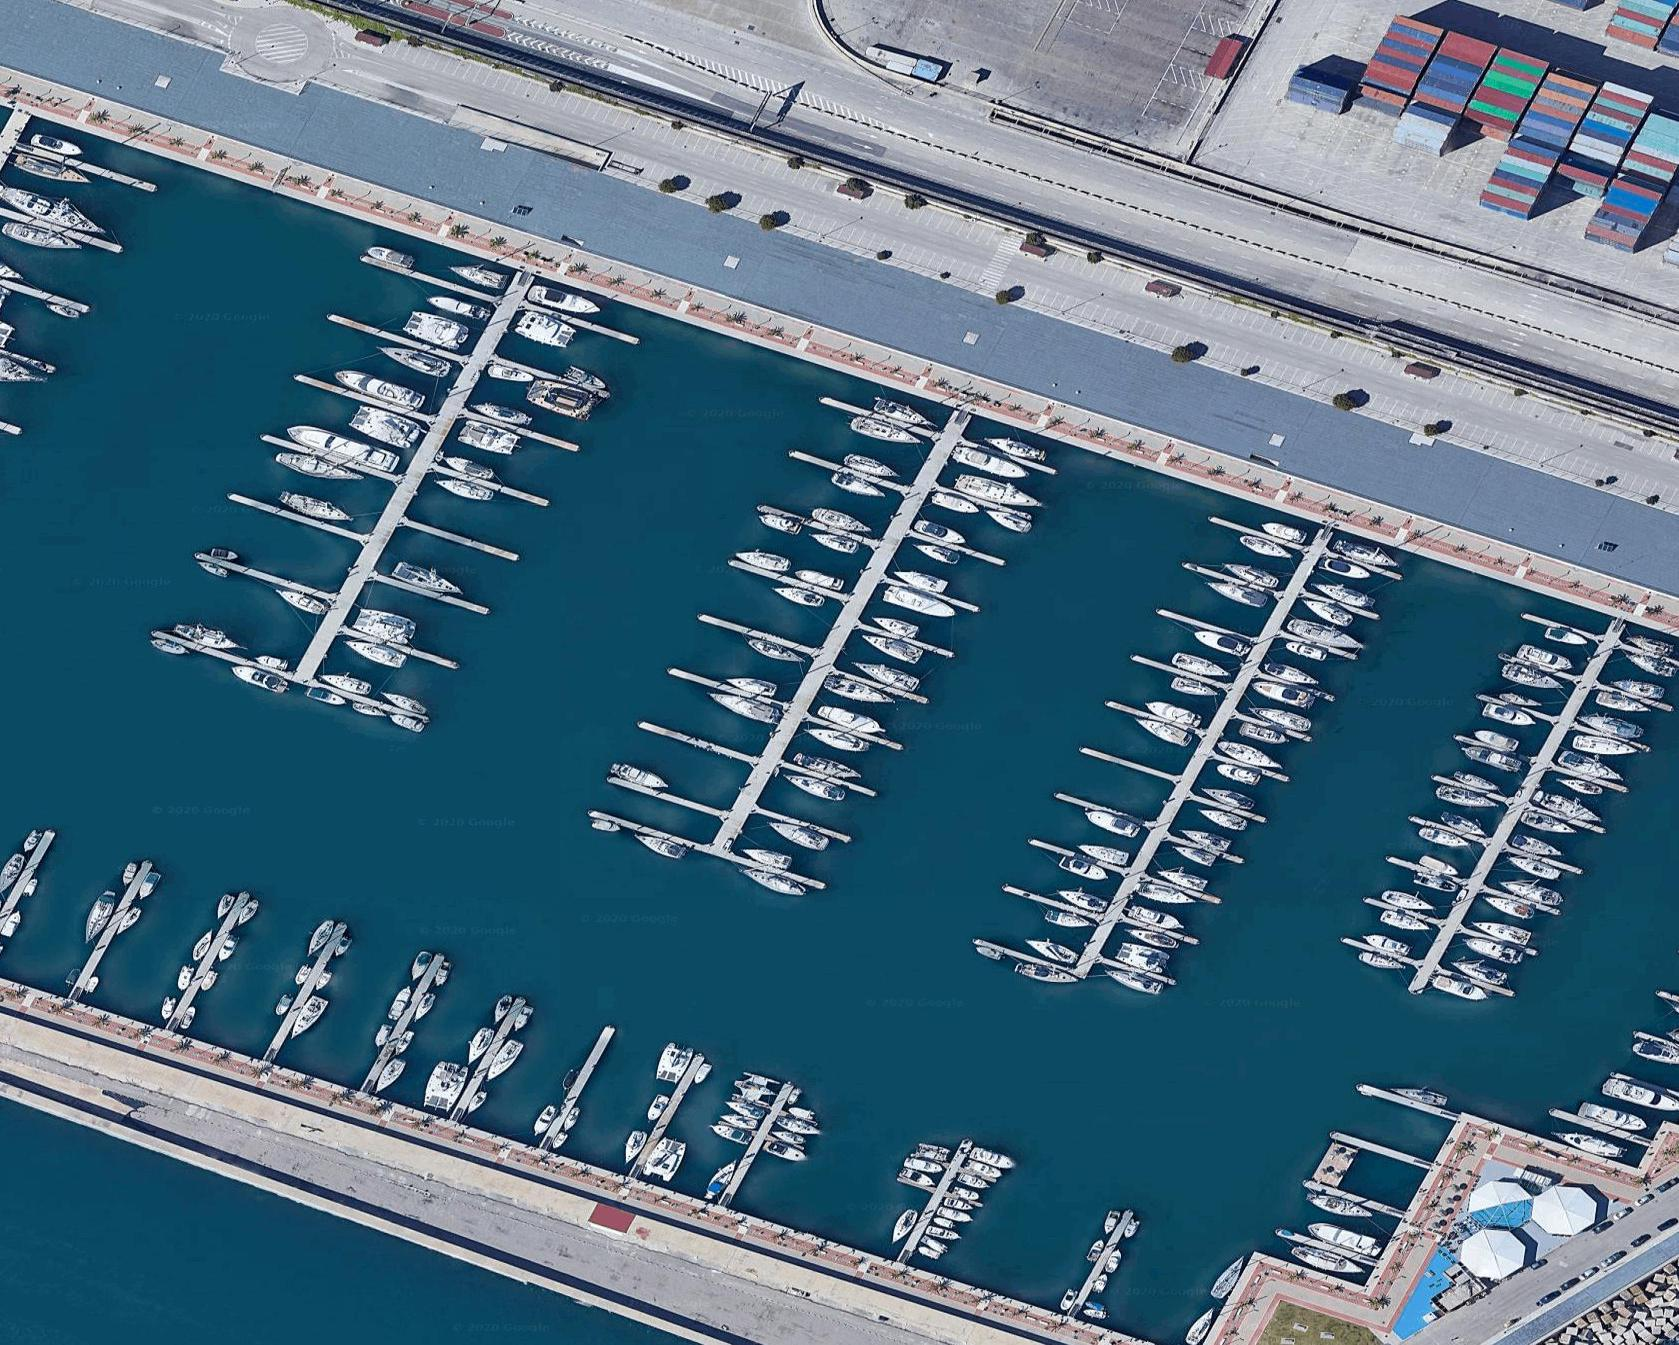harbor: (162, 217, 600, 760), (619, 340, 1037, 904), (1004, 489, 1399, 1047), (1358, 623, 1661, 1028), (356, 955, 441, 1087), (618, 1044, 702, 1178), (713, 1077, 796, 1210), (890, 1130, 973, 1263), (1057, 1184, 1141, 1318), (161, 895, 244, 1027), (258, 925, 342, 1057), (441, 994, 524, 1125), (533, 1025, 612, 1154), (66, 872, 137, 1006), (11, 137, 169, 189), (1, 817, 58, 962), (1, 204, 129, 265)
ship: (270, 420, 406, 484), (1285, 1220, 1382, 1272), (781, 758, 864, 808), (1065, 791, 1144, 841), (1300, 1215, 1389, 1259), (1050, 843, 1115, 885), (1573, 722, 1650, 755), (1370, 892, 1436, 931), (1211, 1254, 1251, 1307), (1183, 1307, 1222, 1345), (758, 502, 806, 533)
